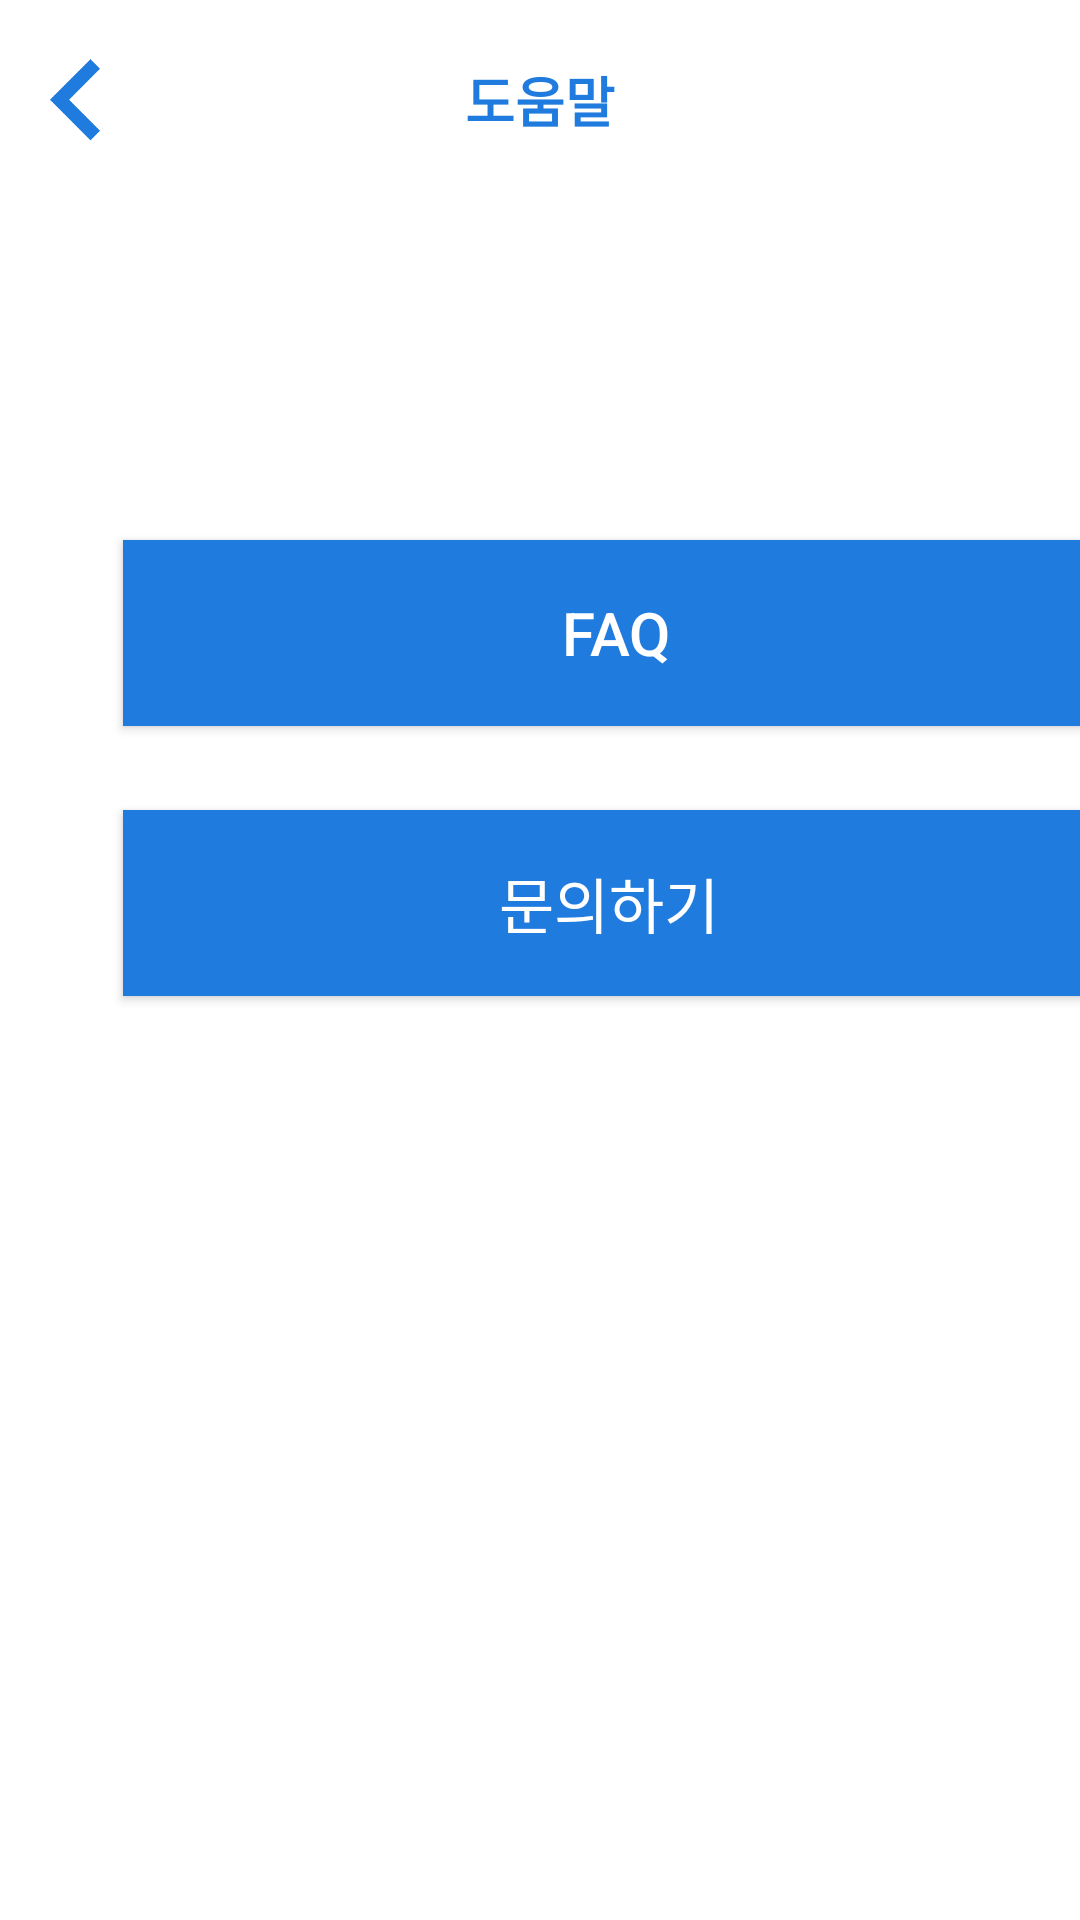

Locate icon controls on the screen. Image size 1080 x 1920, boxes as (x1=x1, y1=y1, x2=x2, y2=y2).
back: (x1=50, y1=59, x2=100, y2=140)
